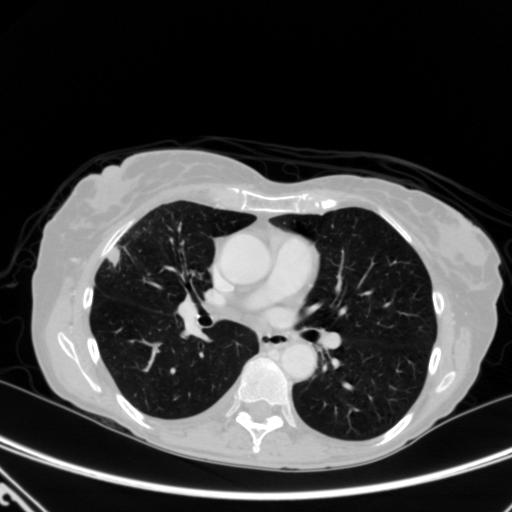nodule: (103, 244, 125, 266)
